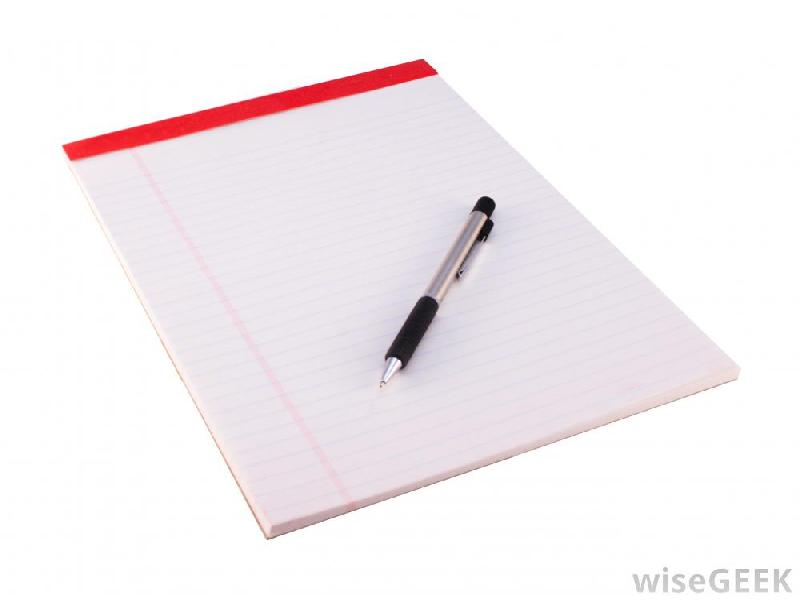pen: (378, 187, 497, 392)
